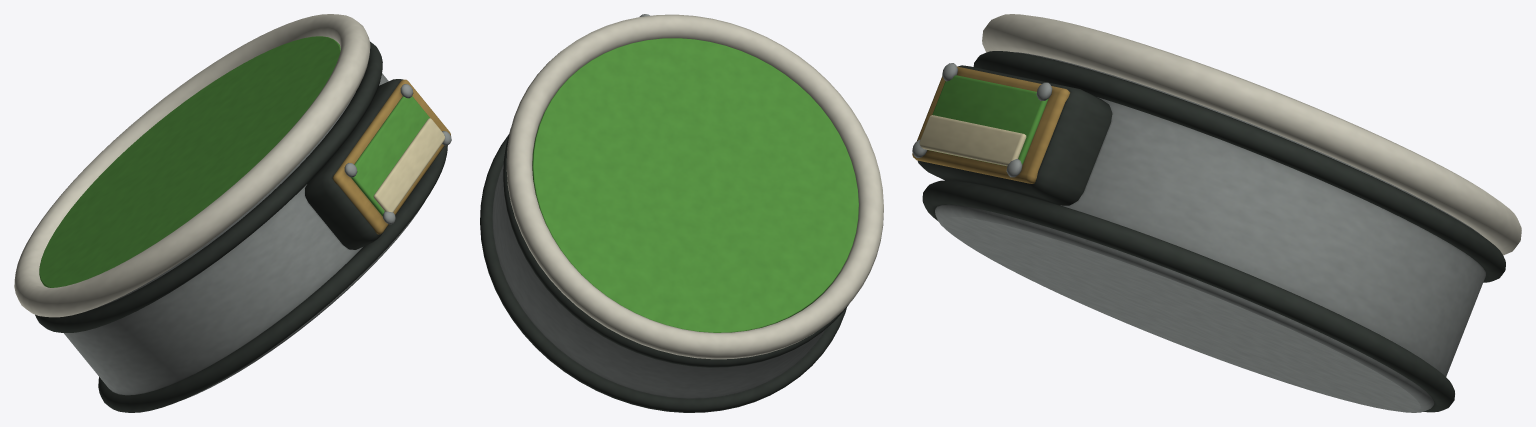
3 renders of one model, left to right at view 1: azimuth 30°, elevation 25°; view 2: azimuth 150°, elevation 25°; view 3: azimuth 270°, elevation 25°, orthographic. The views are drawn at different scales.
Visible parts, largest first — view 1: Closed sample vessel; view 2: Closed sample vessel; view 3: Closed sample vessel.
Boxes of the visible parts, x1=… form: Closed sample vessel: x1=14, y1=14, x2=451, y2=412; Closed sample vessel: x1=480, y1=14, x2=883, y2=412; Closed sample vessel: x1=912, y1=14, x2=1521, y2=412.
Bounding box in the file's own units: 1.05 × 0.8934 × 1.09.
Materials: 1 (1 with a texture image).
